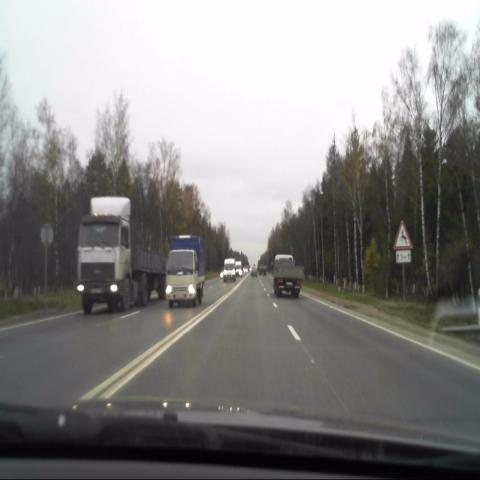1_27: (392, 220, 412, 249)
